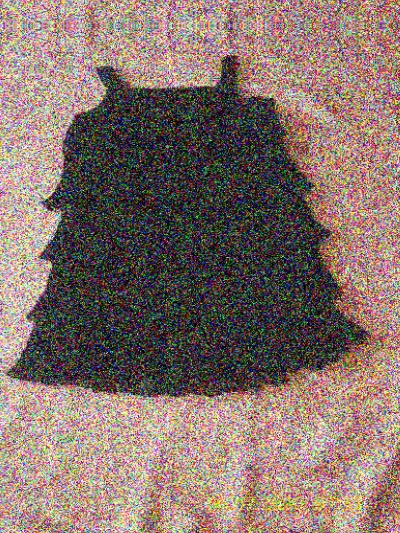Dress: (22, 58, 369, 409)
